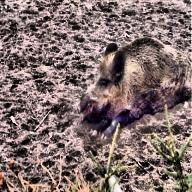boar: (79, 33, 188, 128)
